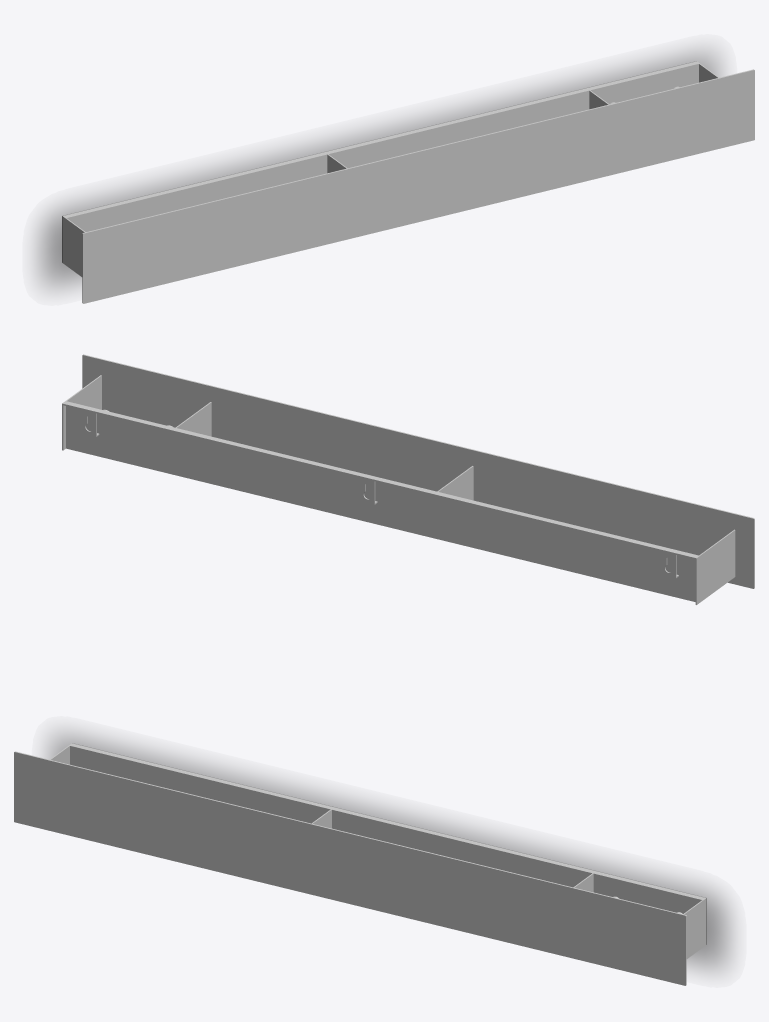
The model's file is skyline-patron.c8af0010d0.ar.glb.
The picture shows the model from 3 angles, top to bottom: view 1: azimuth 30°, elevation 25°; view 2: azimuth 150°, elevation 25°; view 3: azimuth 330°, elevation 25°; orthographic projection.
Visible parts, largest first — view 1: NAUO1, object 2; view 2: NAUO1; view 3: NAUO1, object 2.
Part boxes in pixels (<box>): NAUO1: <box>62,61,754,303</box>; object 2: <box>36,51,722,288</box>; NAUO1: <box>62,354,754,604</box>; NAUO1: <box>14,743,706,985</box>; object 2: <box>46,733,732,970</box>.
Bounding box in the file's own units: 0.98 × 0.17 × 0.092.
Materials: 2 (1 with a texture image).
